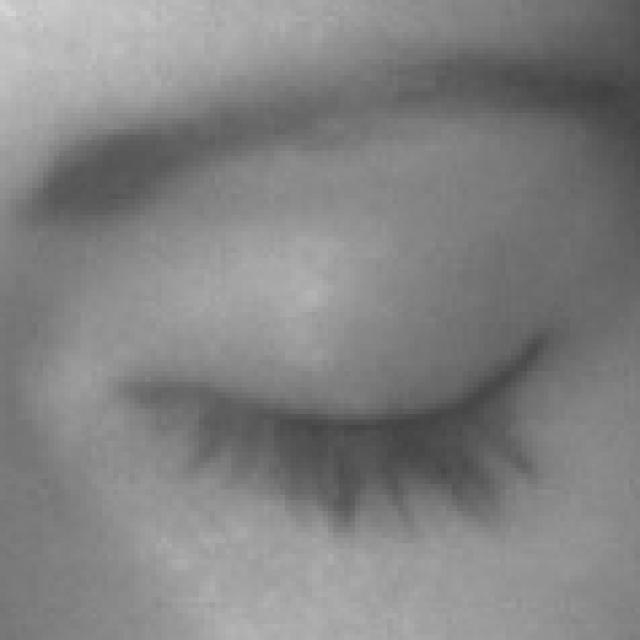Eyeclosed: (137, 228, 570, 612)
